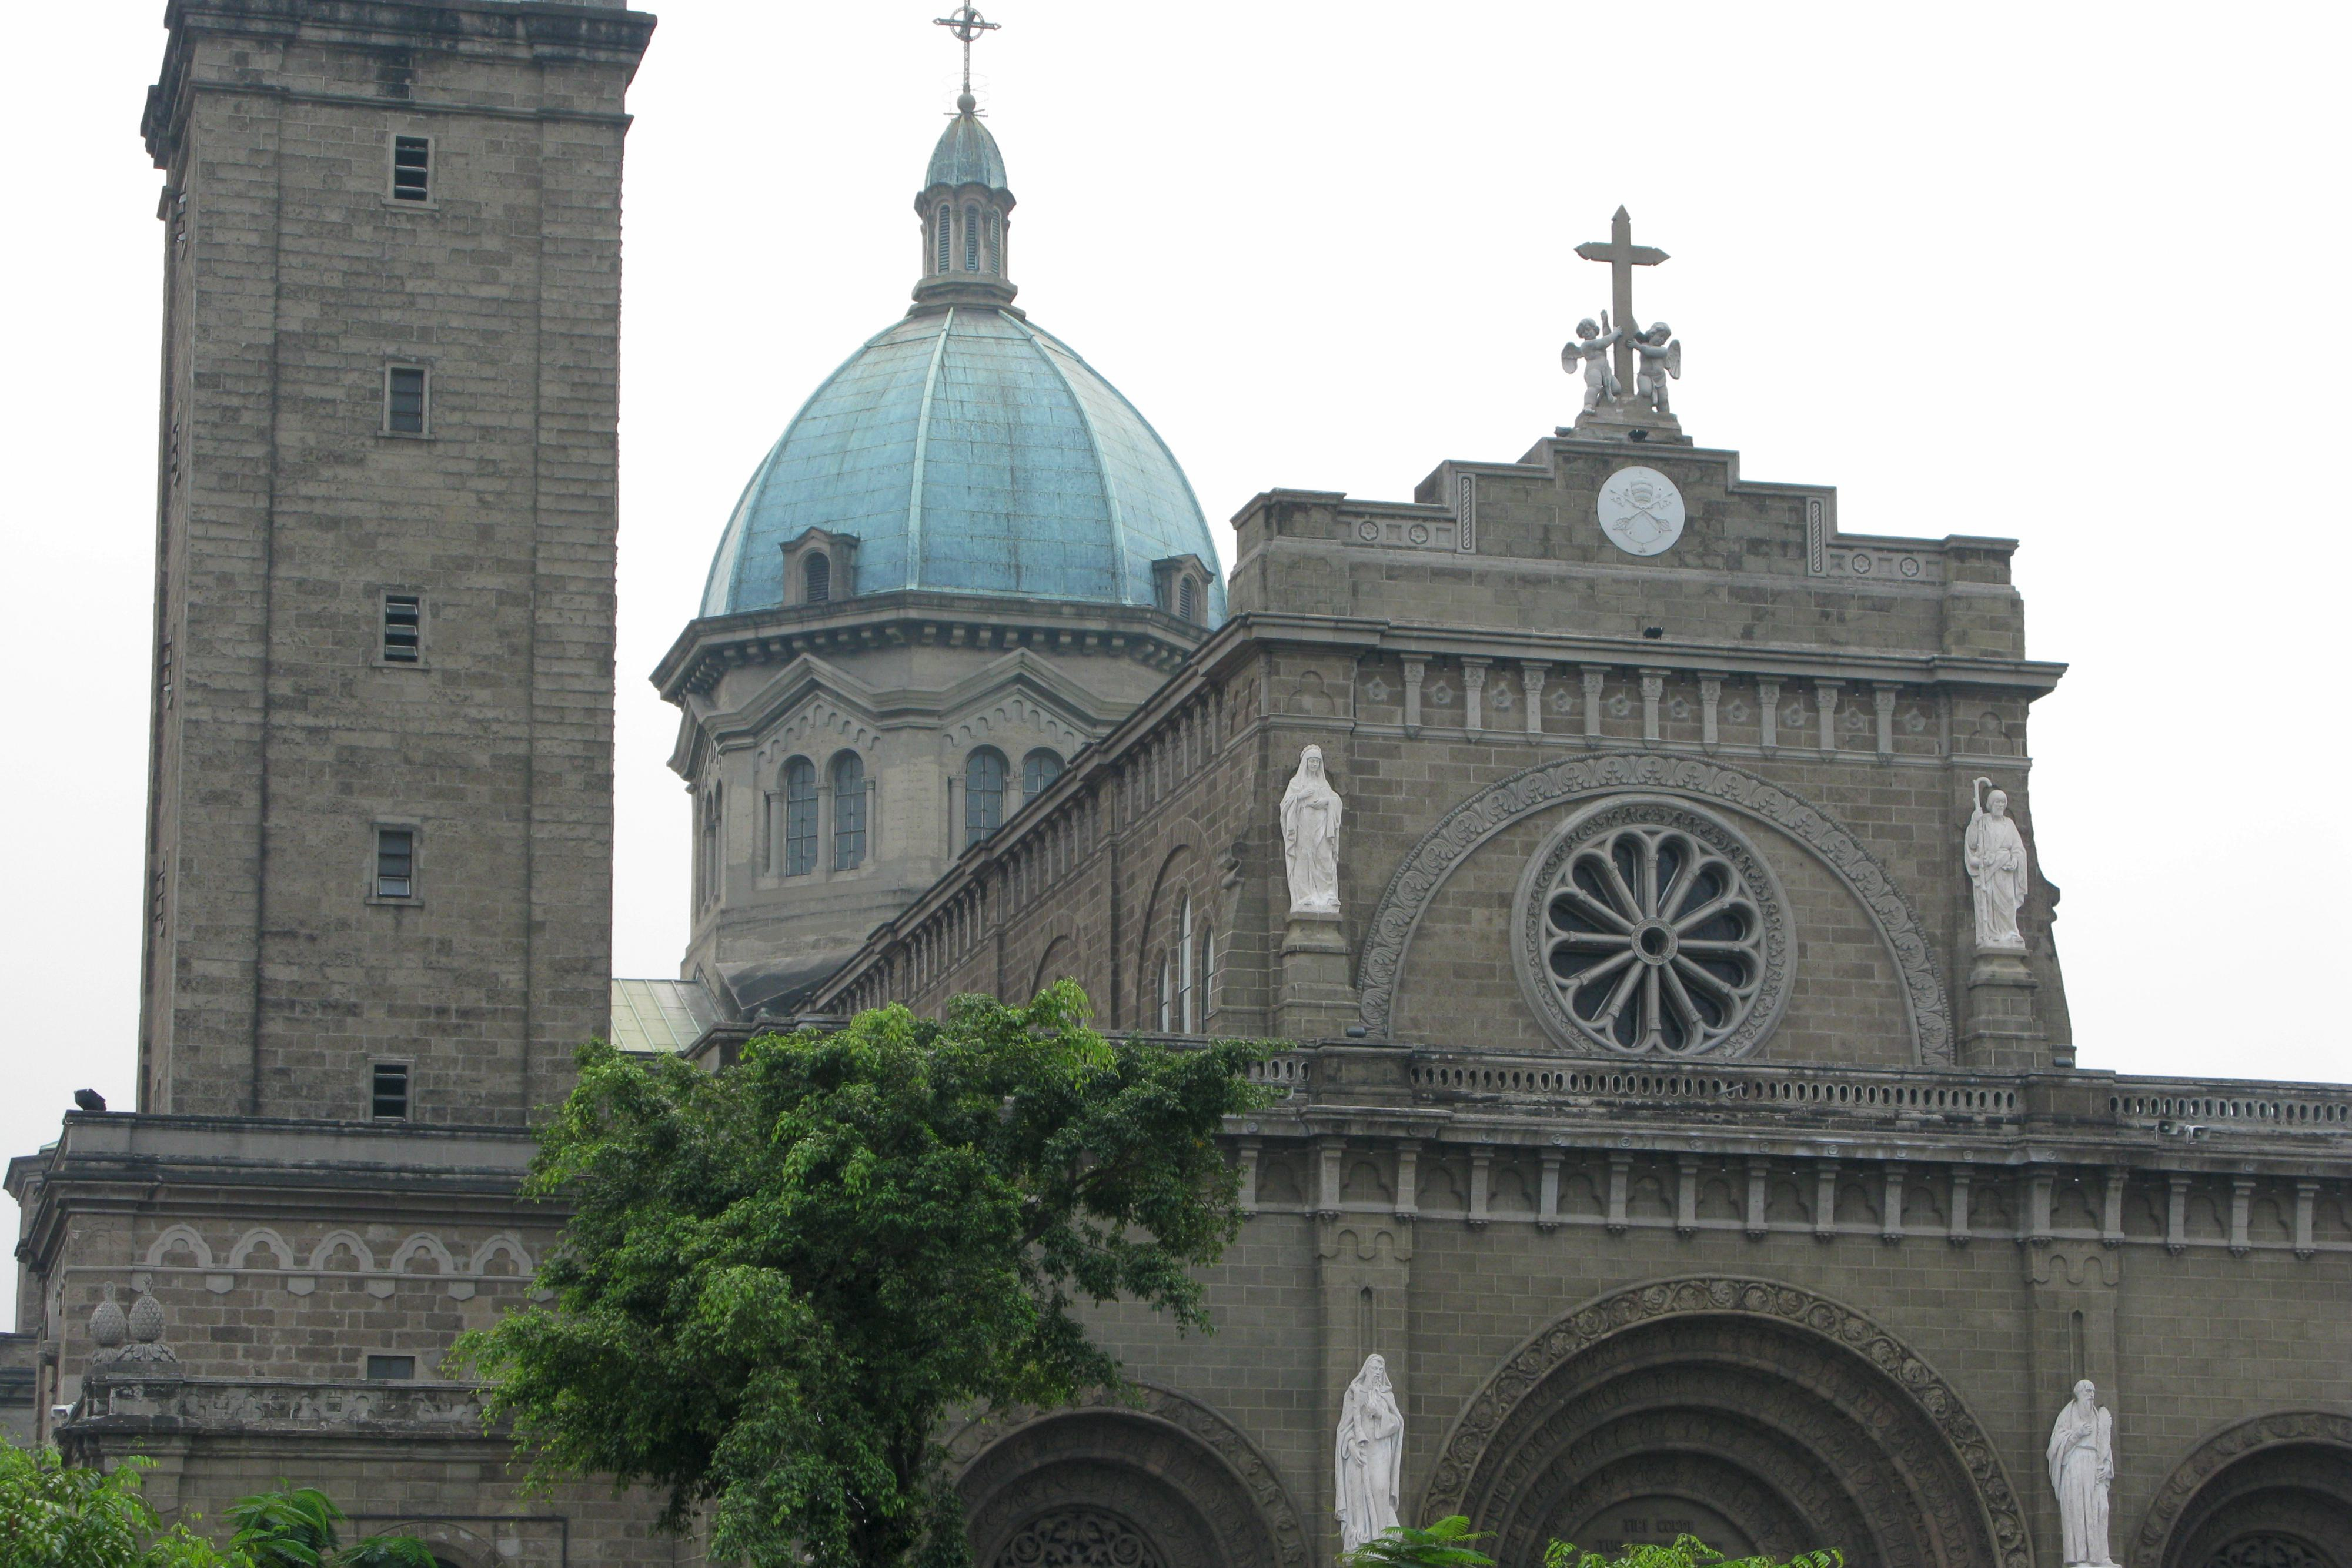manila_cathedral_church_intramuros_manila: (5, 2, 2352, 1568)
